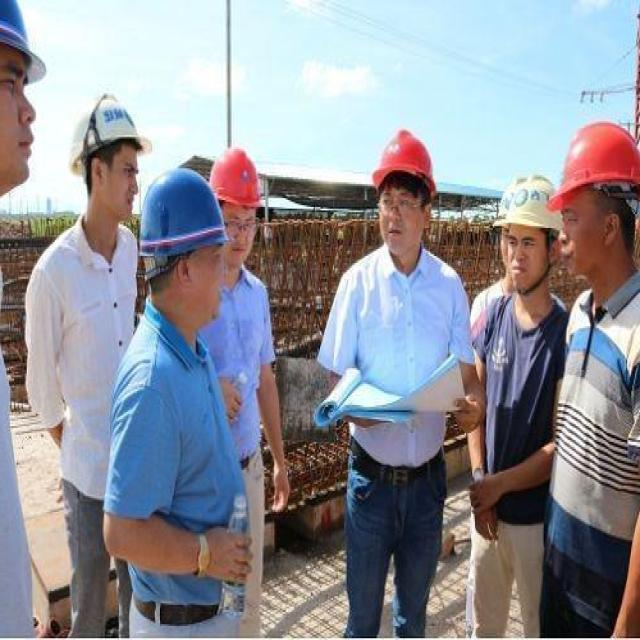helmet: (136, 168, 236, 278), (550, 118, 640, 224), (62, 100, 160, 173), (366, 122, 440, 206), (209, 146, 271, 224), (498, 174, 558, 240)
